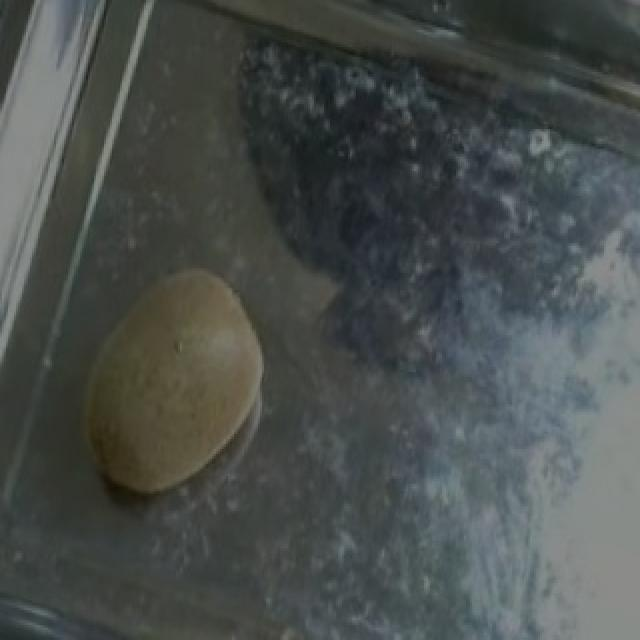Fruit: (44, 241, 296, 524)
